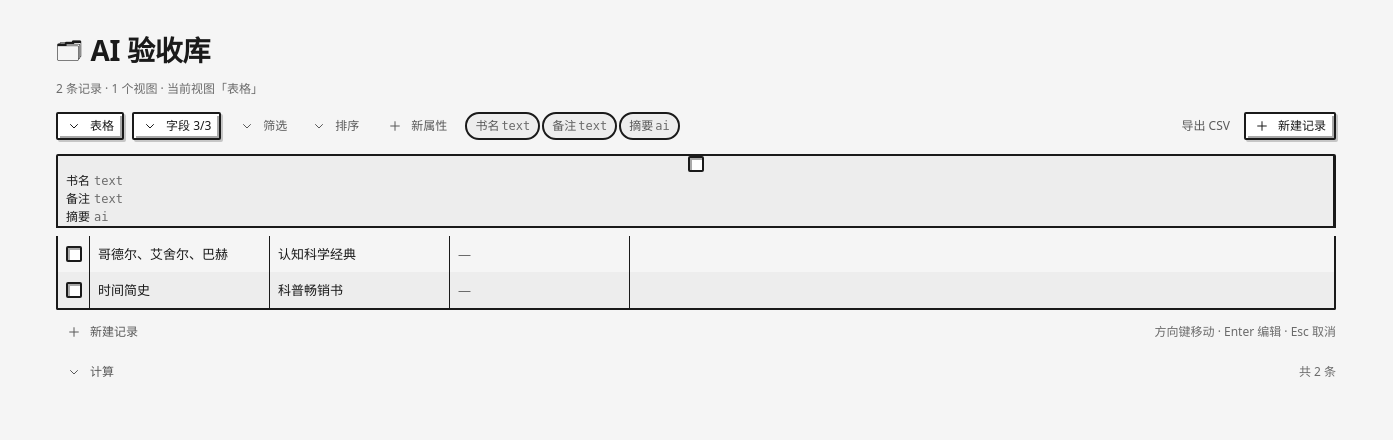
Scenario: AI 属性列 · 批量生成 › 未启用 → 批量入口直接引导（确认弹窗不出、chat 不调）
Check: the heading "AI 验收库" is shown, box [90,32,210,68]
Click the button with aria-label "属性管理：摘要".
click(649, 126)  # box [619,112,680,140]
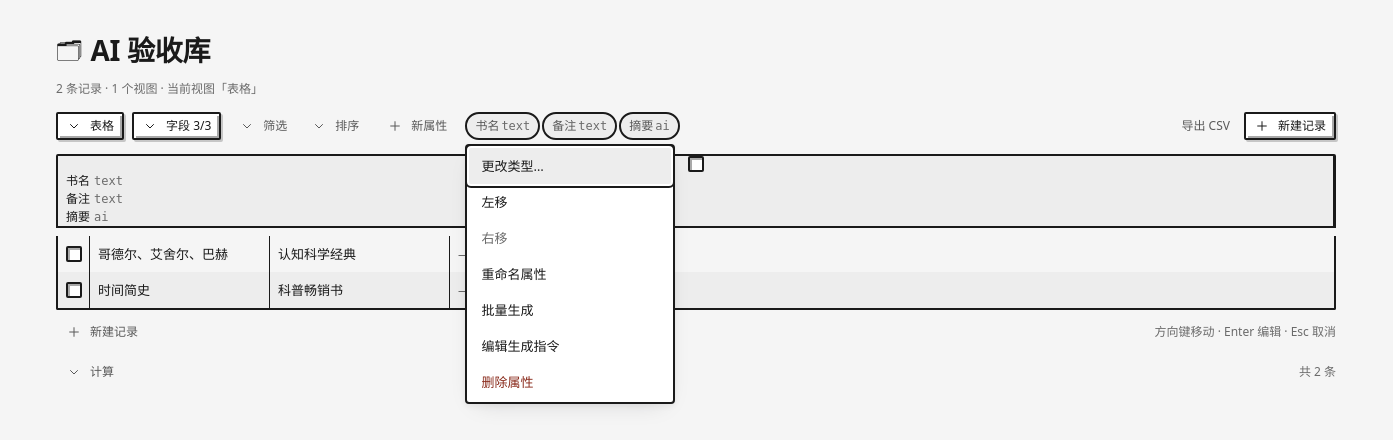
Click the menu item "批量生成".
click(570, 310)  # box [469,292,671,328]
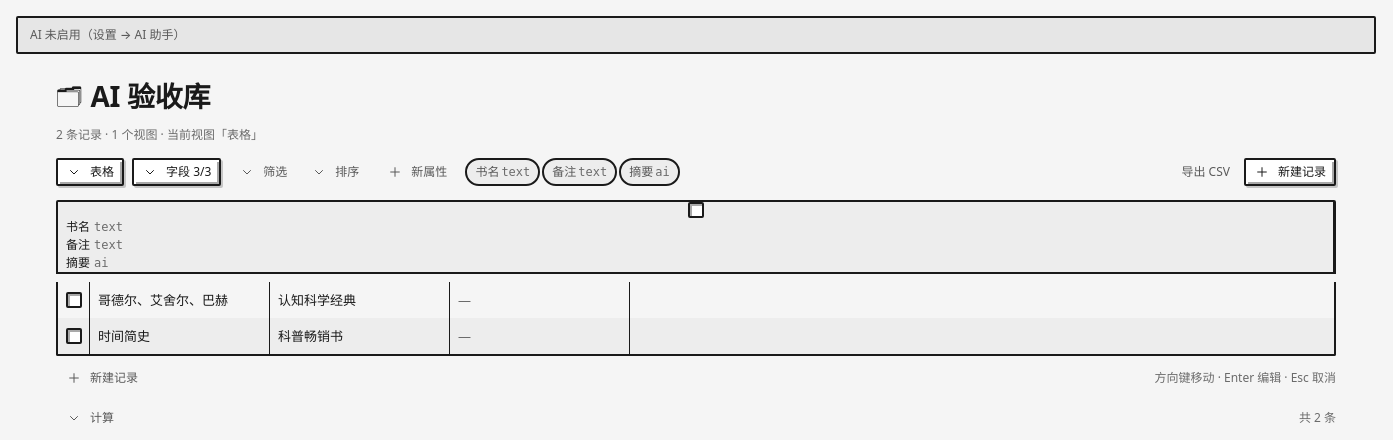
Check: the message reads "AI 未启用（设置 → AI 助手）", box [30,26,185,43]
